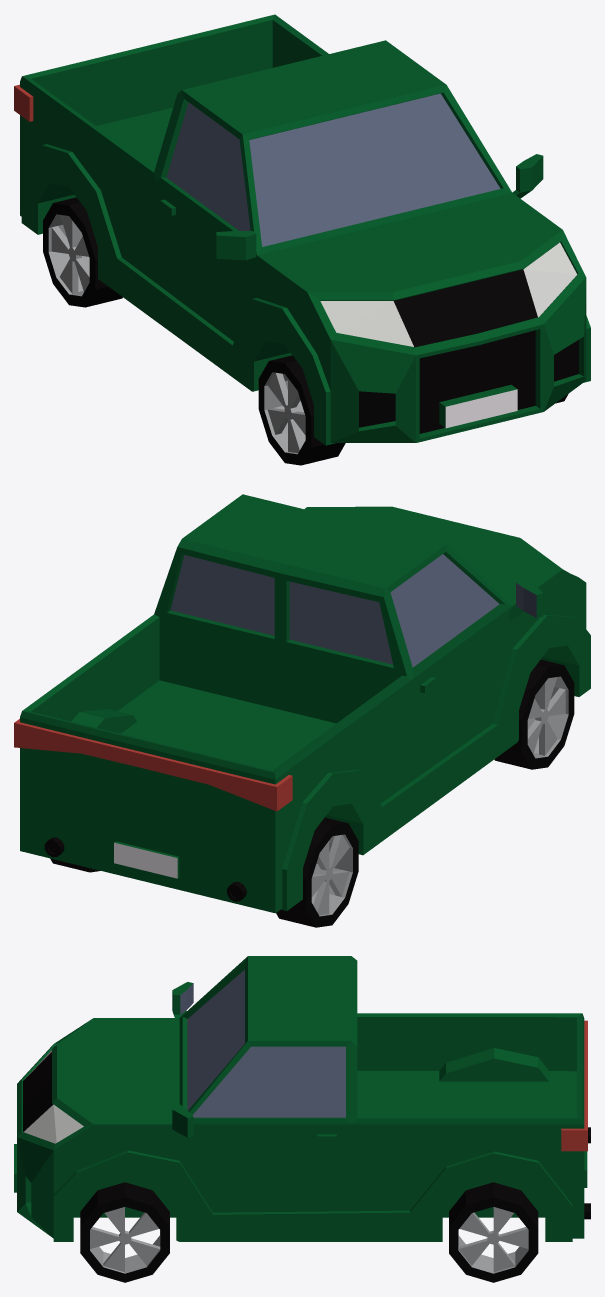
File: pickup.glb
The picture shows the model from 3 angles, top to bottom: view 1: azimuth 30°, elevation 25°; view 2: azimuth 150°, elevation 25°; view 3: azimuth 270°, elevation 25°; orthographic projection. The views are drawn at different scales.
Visible parts, largest first — view 1: paint, glass, wheel_fr, wheel_rr, headlights; view 2: paint, glass, taillights, wheel_rr, wheel_fr; view 3: paint, glass, wheel_rl, wheel_fl, headlights, taillights.
Boxes of the visible parts, bbox=[...] form: paint: bbox=[20, 14, 590, 445]; glass: bbox=[166, 93, 500, 246]; wheel_fr: bbox=[258, 355, 345, 465]; wheel_rr: bbox=[43, 197, 122, 307]; headlights: bbox=[320, 242, 577, 346]; paint: bbox=[20, 494, 590, 913]; glass: bbox=[170, 554, 536, 667]; taillights: bbox=[14, 719, 292, 811]; wheel_rr: bbox=[276, 817, 358, 927]; wheel_fr: bbox=[494, 659, 574, 769]; paint: bbox=[14, 956, 590, 1241]; glass: bbox=[180, 970, 345, 1117]; wheel_rl: bbox=[449, 1182, 538, 1282]; wheel_fl: bbox=[80, 1182, 169, 1282]; headlights: bbox=[23, 1044, 83, 1143]; taillights: bbox=[561, 1020, 587, 1151].
Bounding box in the file's own units: 1.76 × 1.38 × 3.15.
